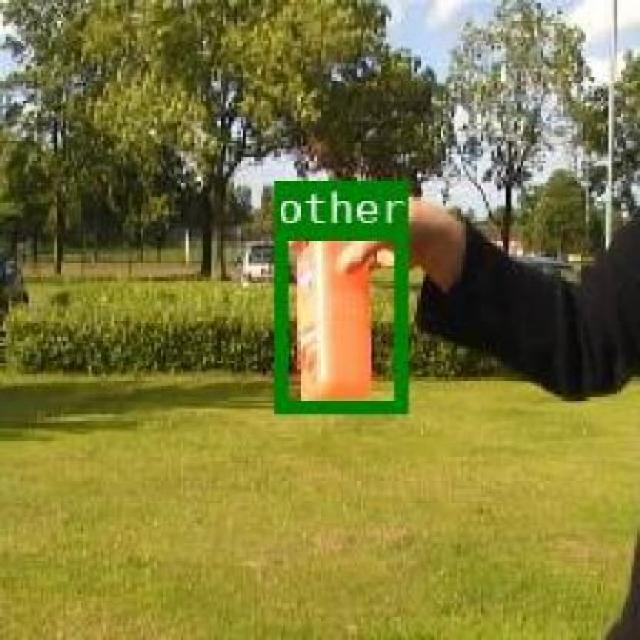other: (271, 225, 404, 408)
